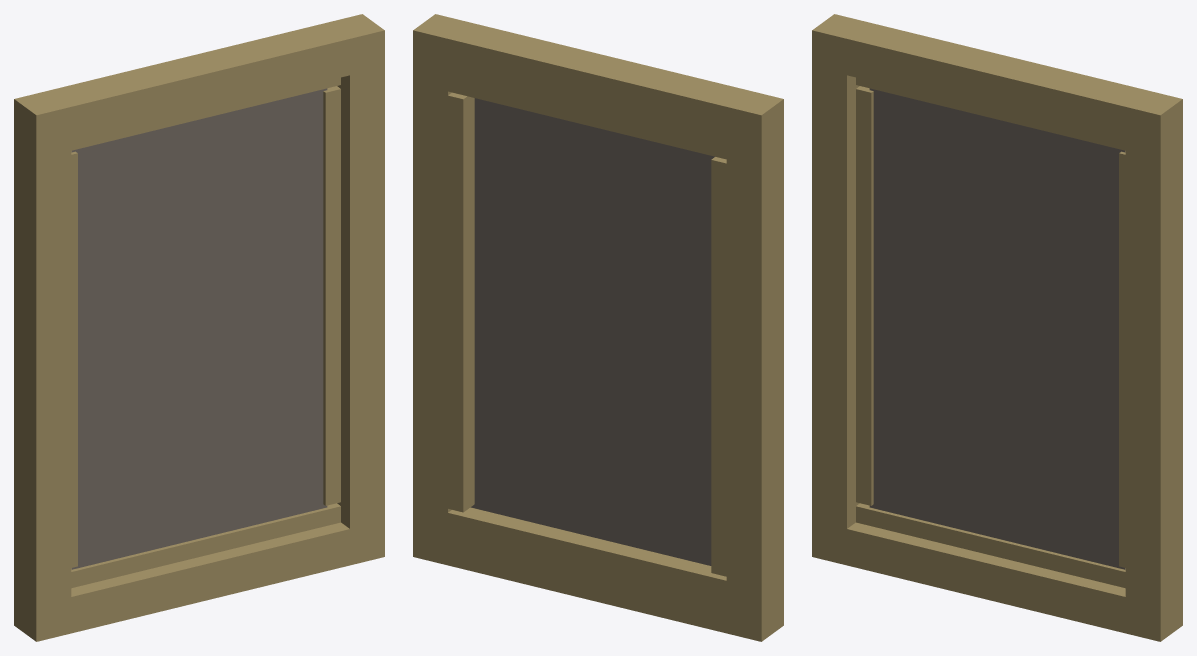
Rendered from Portrait.fbx.
The picture shows the model from 3 angles, left to right: view 1: azimuth 30°, elevation 25°; view 2: azimuth 150°, elevation 25°; view 3: azimuth 330°, elevation 25°; orthographic projection.
Visible parts, largest first — view 1: Canvas, Portrait; view 2: Portrait, Canvas; view 3: Canvas, Portrait.
Part boxes in pixels (box(x1,y1,x2,y2)): Canvas: box(71, 88, 327, 569); Portrait: box(14, 14, 384, 641); Portrait: box(413, 14, 783, 641); Canvas: box(470, 98, 714, 565); Canvas: box(869, 88, 1125, 569); Portrait: box(812, 14, 1182, 641).
Size of the model in its own units: 0.9 by 1.3 by 0.1.
